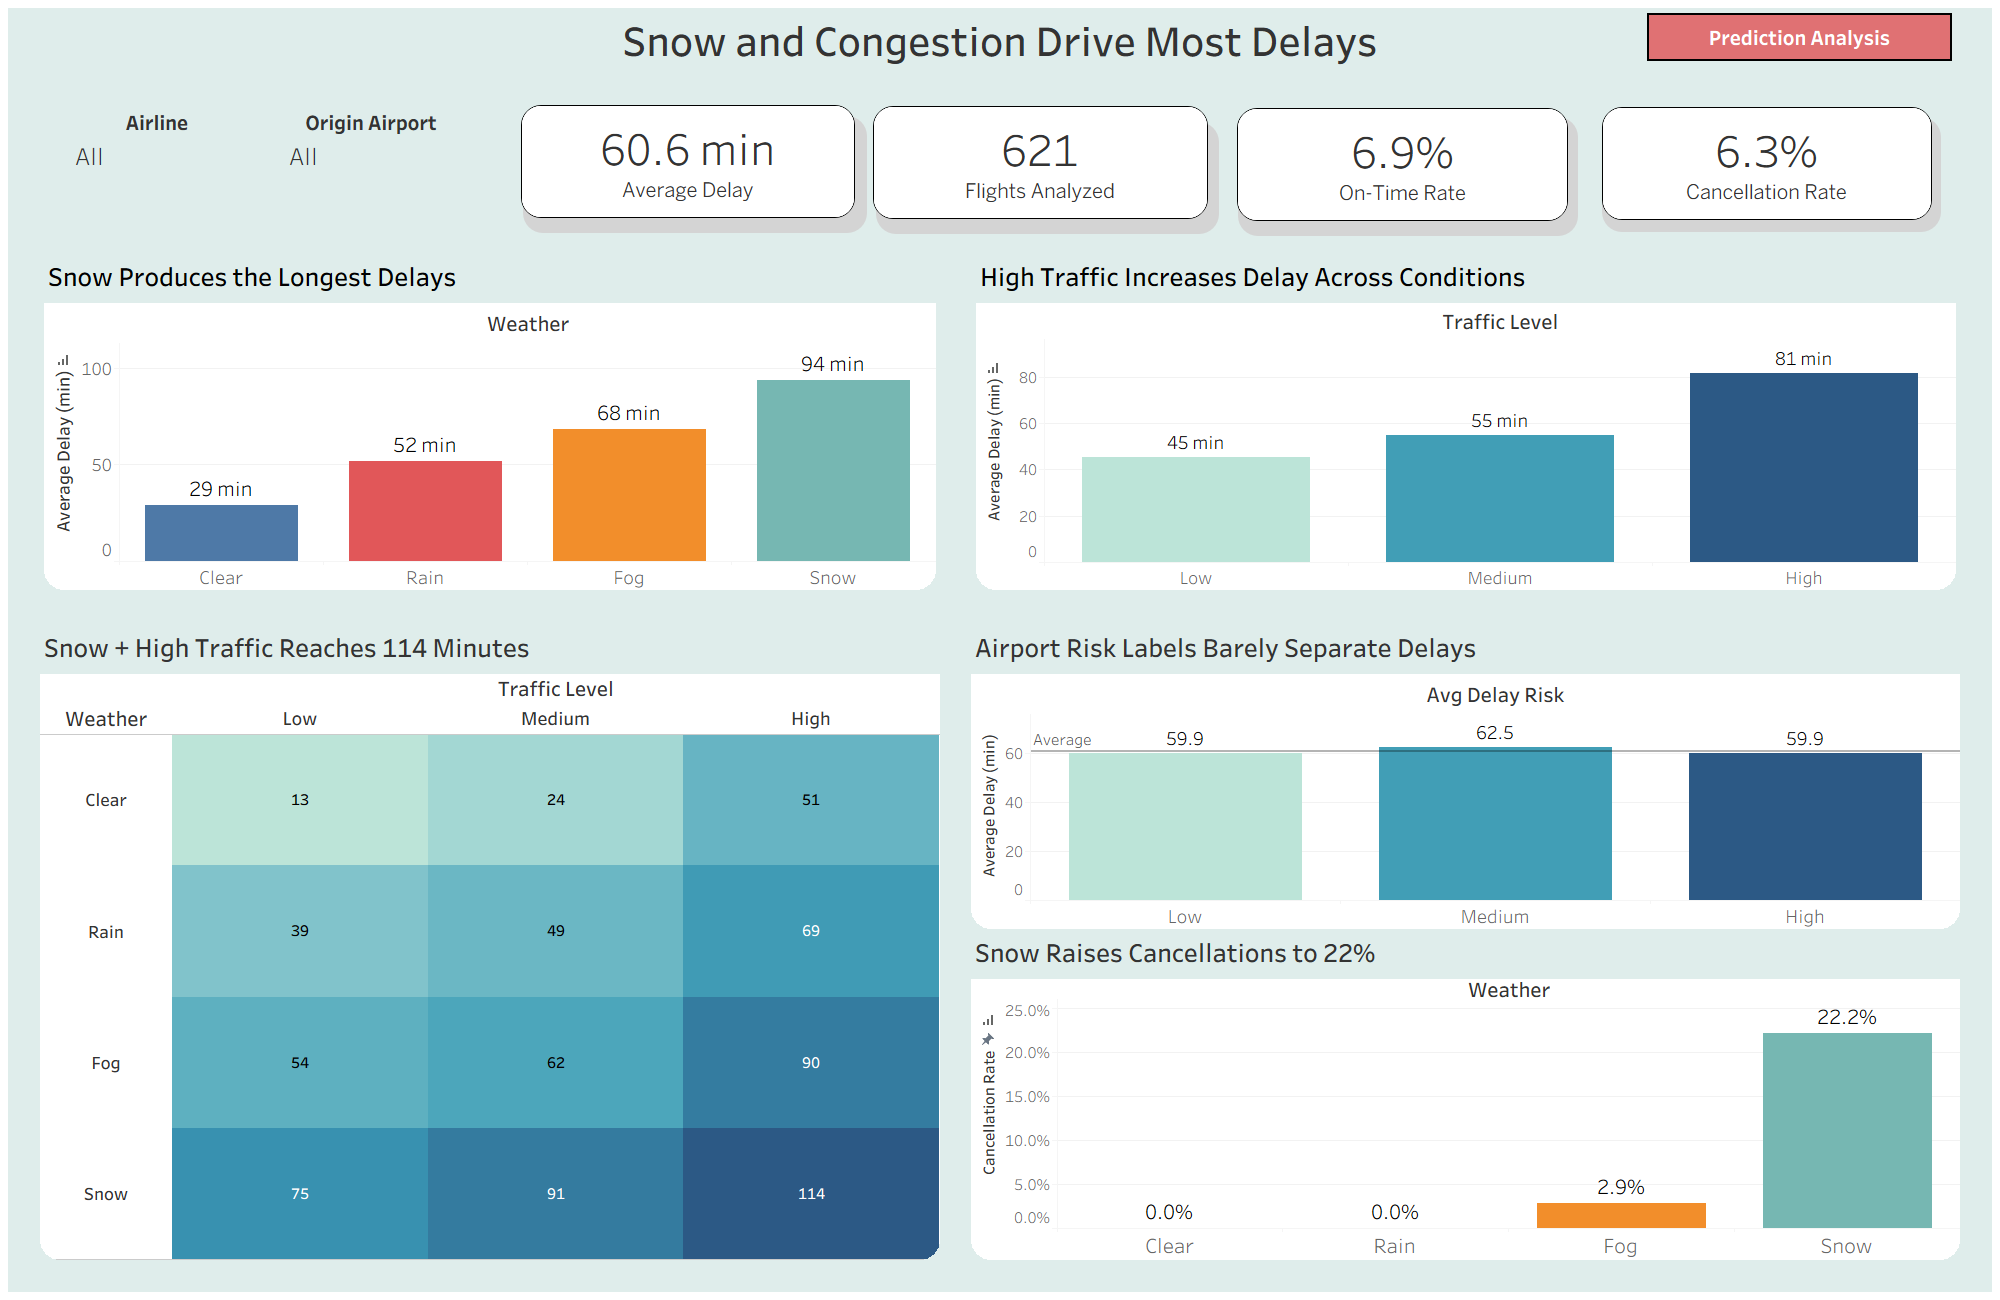

The dashboard page shown, as its layout file describes it:
{"tool":"tableau","page":{"name":"Dashboard 1 - Delay Drivers","canvas":[2000,1300],"ordinal":0},"visuals":[{"type":"title","box":[39.9,8,1920.1,63]},{"type":"dashboard-object","box":[1647,13,305,48]},{"type":"worksheet","title":"W1B - Average Delay","mark":"Automatic","box":[521,105,334,113]},{"type":"worksheet","title":"W1A - Flights Analyzed","mark":"Automatic","box":[873,106,335,113]},{"type":"filter","title":"W2 - Weather Delay","param":"[federated.0iagyvb0wcwo0i1g69tua0jc0mfx].[none:Airline:nk]","box":[73,107,168,84]},{"type":"filter","title":"W2 - Weather Delay","param":"[federated.0iagyvb0wcwo0i1g69tua0jc0mfx].[none:Origin_City:nk]","box":[287,107,168,84]},{"type":"worksheet","title":"W1D - Cancellation Rate","mark":"Automatic","box":[1602,107,330,113]},{"type":"worksheet","title":"W1C - On-Time Rate","mark":"Automatic","box":[1237,108,331,113]},{"type":"worksheet","title":"W2 - Weather Delay","mark":"Bar","rows":["Delay_Minutes"],"cols":["Weather"],"box":[39.9,249.2,900.2,344.9]},{"type":"worksheet","title":"W3 - Traffic Delay","mark":"Bar","rows":["Delay_Minutes"],"cols":["Traffic_Level"],"box":[972.2,249.2,987.8,344.9]},{"type":"worksheet","title":"W4 - Risk Matrix","mark":"Square","rows":["Weather"],"cols":["Traffic_Level"],"box":[39.9,623.9,900,636.1]},{"type":"worksheet","title":"W6 - Airport Risk","mark":"Bar","rows":["Delay_Minutes"],"cols":["Avg_Delay_Risk"],"box":[970.9,623.9,989.1,305]},{"type":"worksheet","title":"W7 - Weather Cancellation","mark":"Automatic","rows":["Calculation_3137193441067011"],"cols":["Weather"],"box":[970.9,928.9,989.1,331.1]}]}

Visuals, with their boxes in screenshot pixels (x1, y1, x2, y2), scaled from the page's 2000x1300 canvas onto the 2000x1300 screenshot:
title: detection(40, 8, 1960, 71)
dashboard-object: detection(1647, 13, 1952, 61)
"W1B - Average Delay" worksheet: detection(521, 105, 855, 218)
"W1A - Flights Analyzed" worksheet: detection(873, 106, 1208, 219)
"W2 - Weather Delay" filter: detection(73, 107, 241, 191)
"W2 - Weather Delay" filter: detection(287, 107, 455, 191)
"W1D - Cancellation Rate" worksheet: detection(1602, 107, 1932, 220)
"W1C - On-Time Rate" worksheet: detection(1237, 108, 1568, 221)
"W2 - Weather Delay" worksheet (Bar marks): detection(40, 249, 940, 594)
"W3 - Traffic Delay" worksheet (Bar marks): detection(972, 249, 1960, 594)
"W4 - Risk Matrix" worksheet (Square marks): detection(40, 624, 940, 1260)
"W6 - Airport Risk" worksheet (Bar marks): detection(971, 624, 1960, 929)
"W7 - Weather Cancellation" worksheet: detection(971, 929, 1960, 1260)
